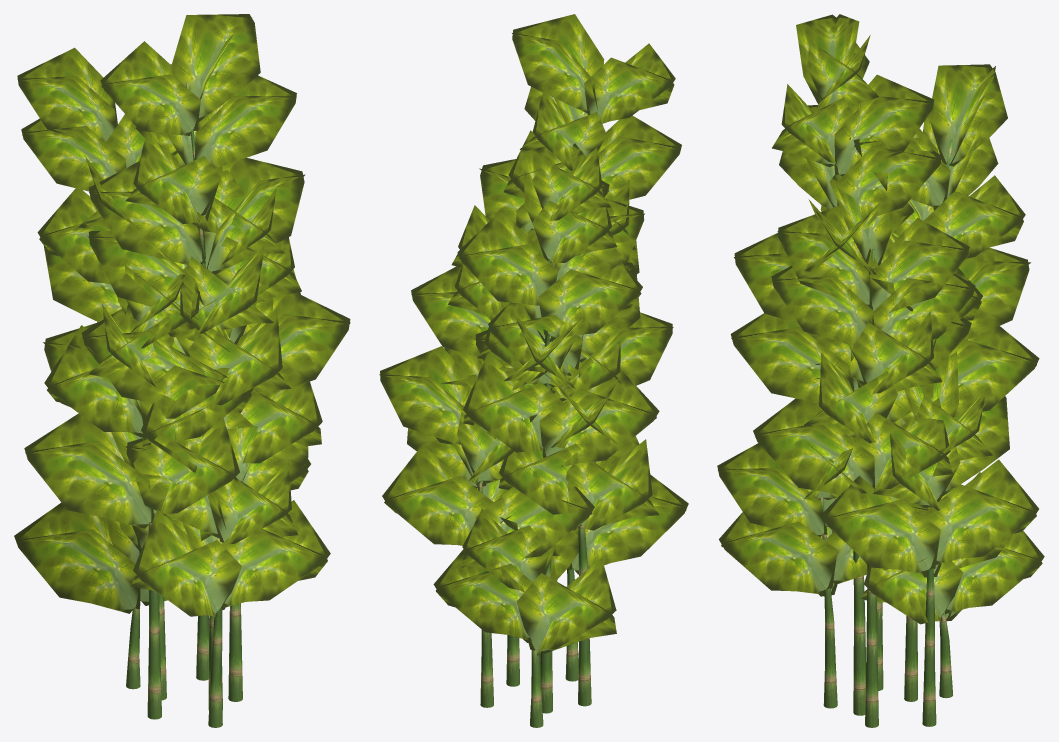
The model's file is bamboo.glb.
3 renders of one model, left to right at view 1: azimuth 30°, elevation 25°; view 2: azimuth 150°, elevation 25°; view 3: azimuth 270°, elevation 25°, orthographic. The views are drawn at different scales.
Visible parts, largest first — view 1: tree; view 2: tree; view 3: tree.
Part boxes in pixels (<box>): tree: <box>14,14,350,727</box>; tree: <box>379,14,688,727</box>; tree: <box>717,14,1044,727</box>.
Bounding box in the file's own units: 115 × 277 × 123.
Materials: 2 (2 with a texture image).
